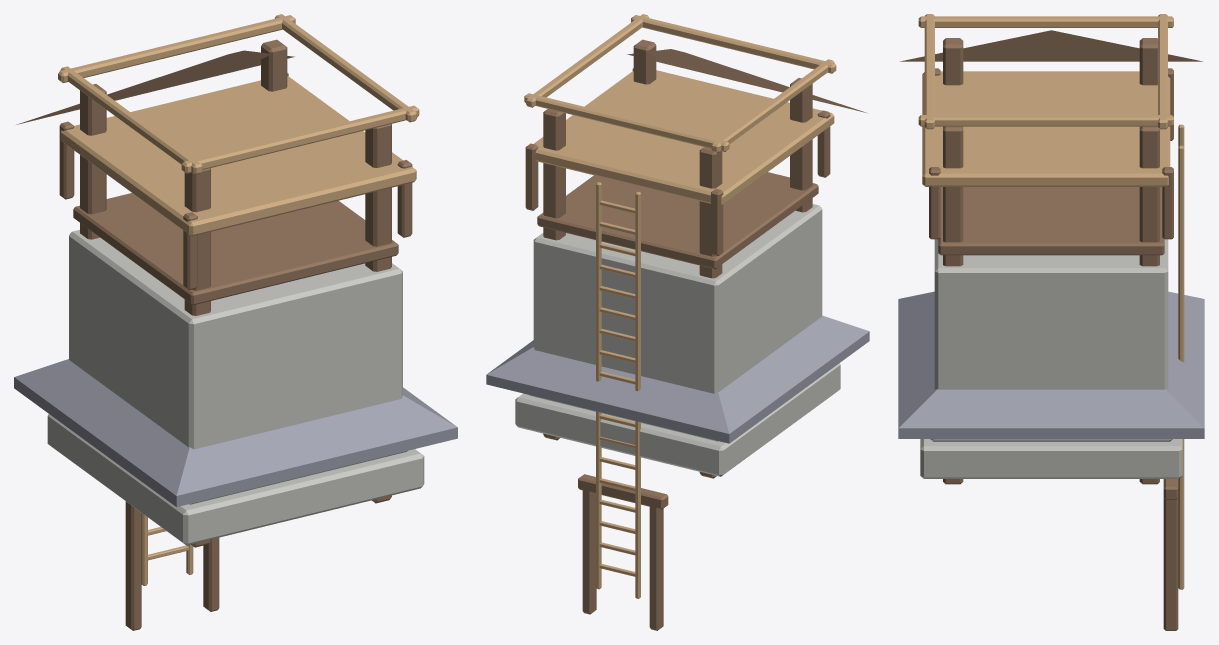
Rendered from town_watchtower.glb.
3 views of the same model, side by side, from view 1: azimuth 30°, elevation 25°; view 2: azimuth 150°, elevation 25°; view 3: azimuth 270°, elevation 25° (orthographic). The views are drawn at different scales.
Parts seen in each view (by area): view 1: world; view 2: world; view 3: world.
Part boxes in pixels (x1,y1,x2,y2): world: [14, 14, 457, 630]; world: [486, 14, 869, 630]; world: [898, 14, 1204, 630].
Size of the model in its own units: 0.9611 by 2 by 0.9611.
